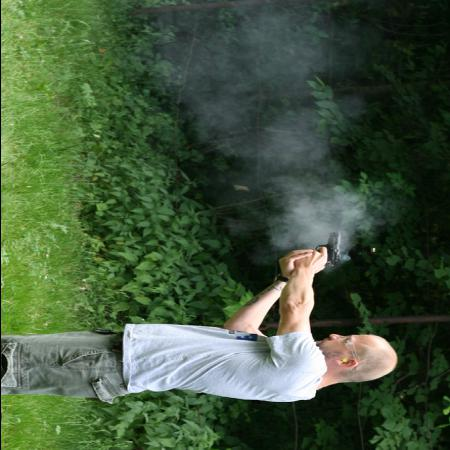Pistol: (311, 230, 341, 272)
